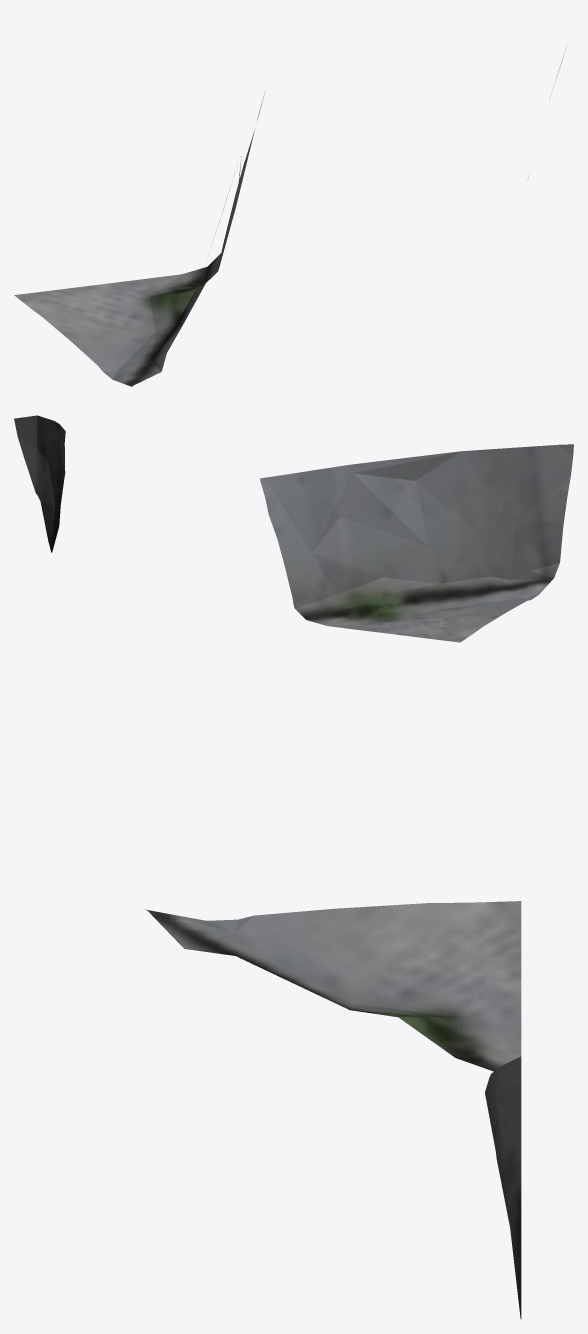
3 views of the same model, one above another, from view 1: azimuth 30°, elevation 25°; view 2: azimuth 150°, elevation 25°; view 3: azimuth 270°, elevation 25° (orthographic). The views are drawn at different scales.
Size of the model in its own units: 0.476 by 0.134 by 0.2101.
1 material, 1 textured.
